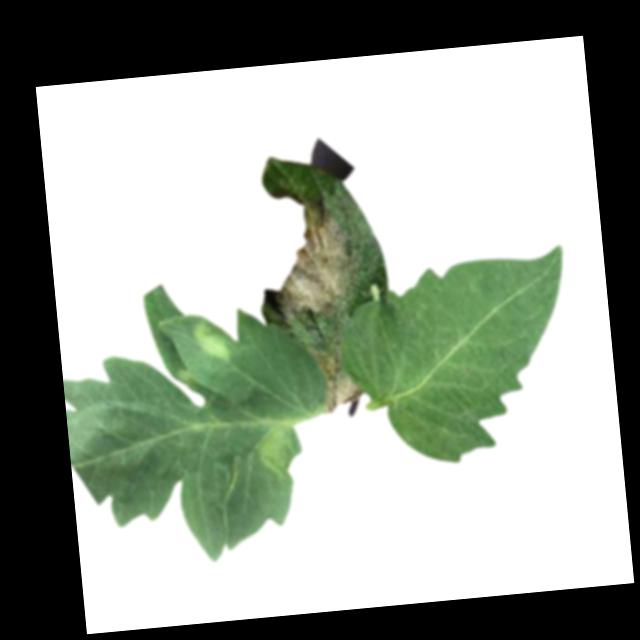Late_blight: (255, 197, 359, 328), (308, 341, 364, 416), (253, 416, 303, 477), (191, 314, 235, 364)
healthy: (333, 242, 582, 473)
